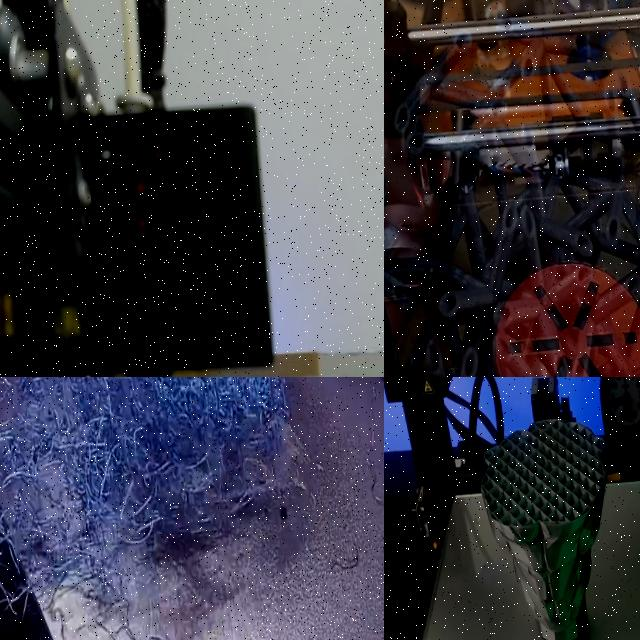spaghetti: (0, 377, 335, 640)
